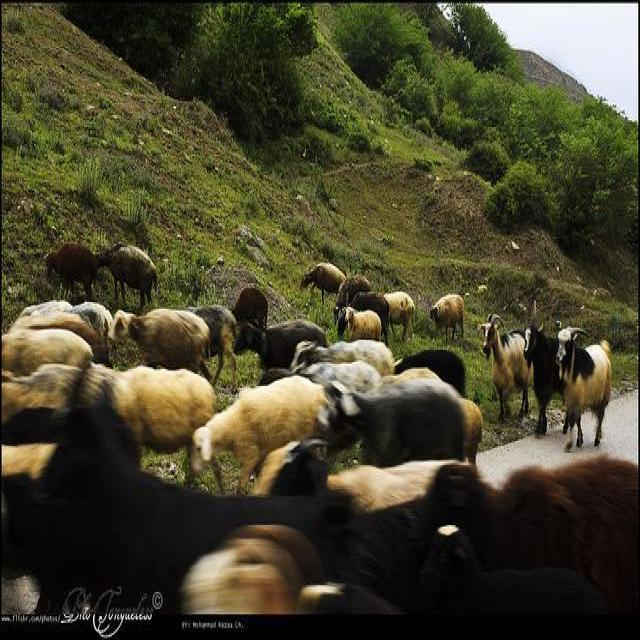Sheep: (1, 233, 447, 616), (74, 364, 228, 499), (189, 374, 324, 496), (321, 379, 471, 470), (557, 326, 612, 455), (0, 364, 111, 426), (524, 290, 570, 438), (111, 305, 210, 369), (15, 298, 114, 361), (479, 314, 534, 424), (235, 317, 328, 374)
